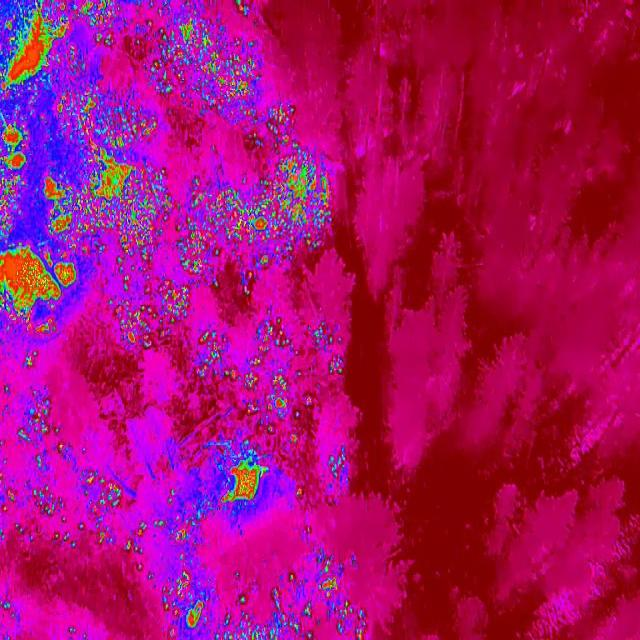fire: (172, 156, 341, 276), (138, 12, 260, 126), (247, 320, 317, 450), (54, 91, 163, 171), (0, 0, 83, 100), (78, 150, 170, 238), (0, 239, 80, 339), (0, 467, 124, 527), (107, 275, 200, 350), (0, 116, 34, 230), (162, 564, 206, 634), (2, 384, 50, 448), (218, 458, 275, 510), (252, 101, 302, 157), (40, 176, 81, 242), (76, 0, 128, 50), (51, 528, 148, 554), (199, 333, 246, 385), (215, 616, 300, 640), (316, 320, 351, 378), (312, 548, 348, 600), (327, 599, 372, 640), (110, 234, 156, 274), (322, 441, 354, 485), (156, 519, 192, 549), (80, 234, 107, 260), (48, 437, 74, 463), (14, 349, 40, 371), (231, 0, 256, 19), (165, 486, 181, 506), (0, 381, 16, 399), (292, 484, 306, 504), (284, 570, 300, 585), (302, 601, 315, 619), (238, 594, 250, 606)
